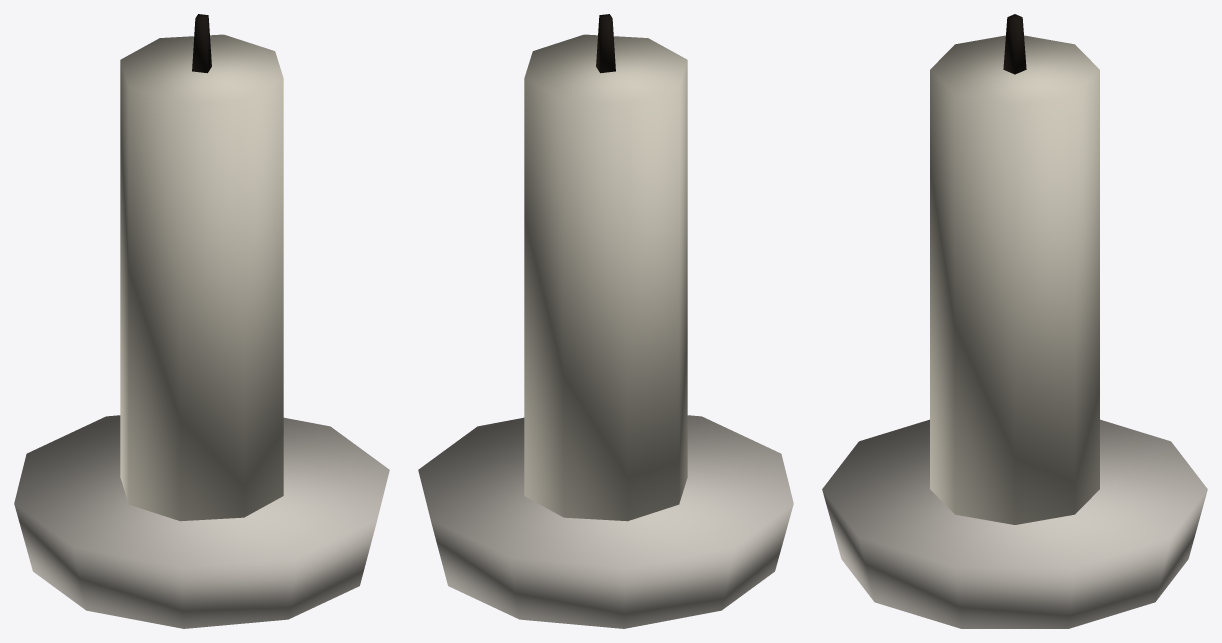
The model's file is marble_candle_v0.glb.
The picture shows the model from 3 angles, left to right: view 1: azimuth 30°, elevation 25°; view 2: azimuth 150°, elevation 25°; view 3: azimuth 270°, elevation 25°; orthographic projection.
Visible parts, largest first — view 1: marble_candle_v0; view 2: marble_candle_v0; view 3: marble_candle_v0.
Part boxes in pixels (box(x1,y1,x2,y2)): marble_candle_v0: box(14, 14, 389, 628); marble_candle_v0: box(418, 14, 793, 628); marble_candle_v0: box(822, 14, 1207, 628).
Bounding box in the file's own units: 0.0951 × 0.155 × 0.1.
